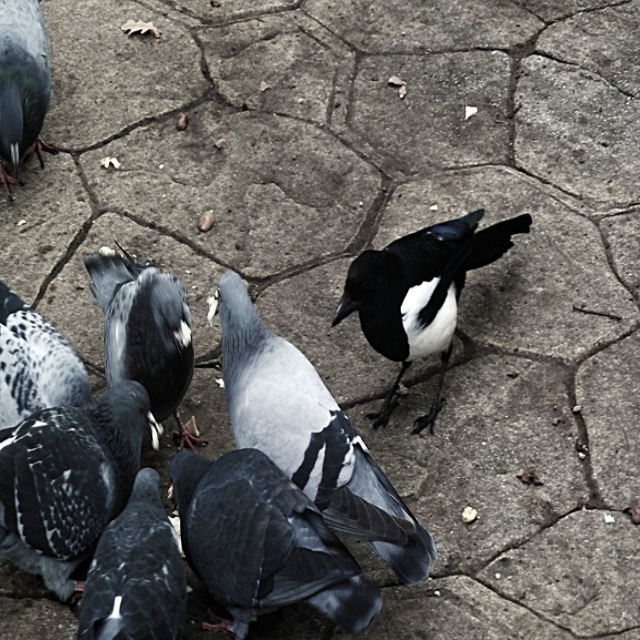Magpie: (328, 208, 531, 437)
